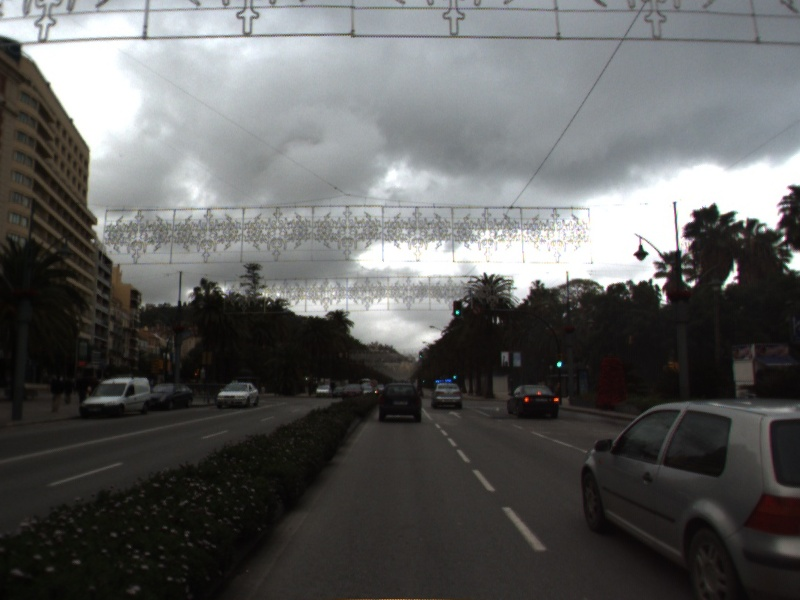STRAIGHT: (446, 408, 465, 421)
